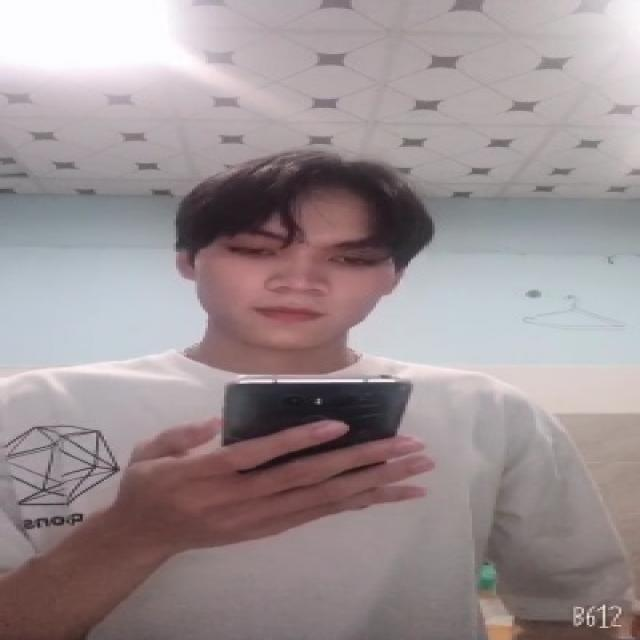Phone: (219, 371, 419, 468)
